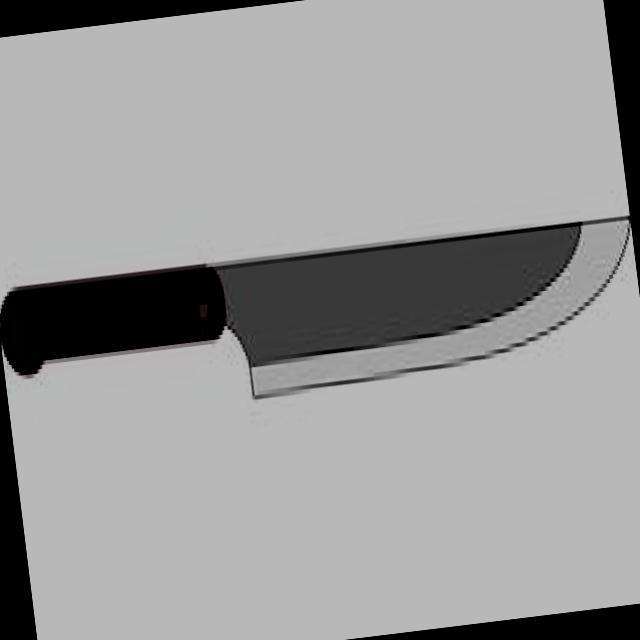Knife: (0, 135, 640, 480)
